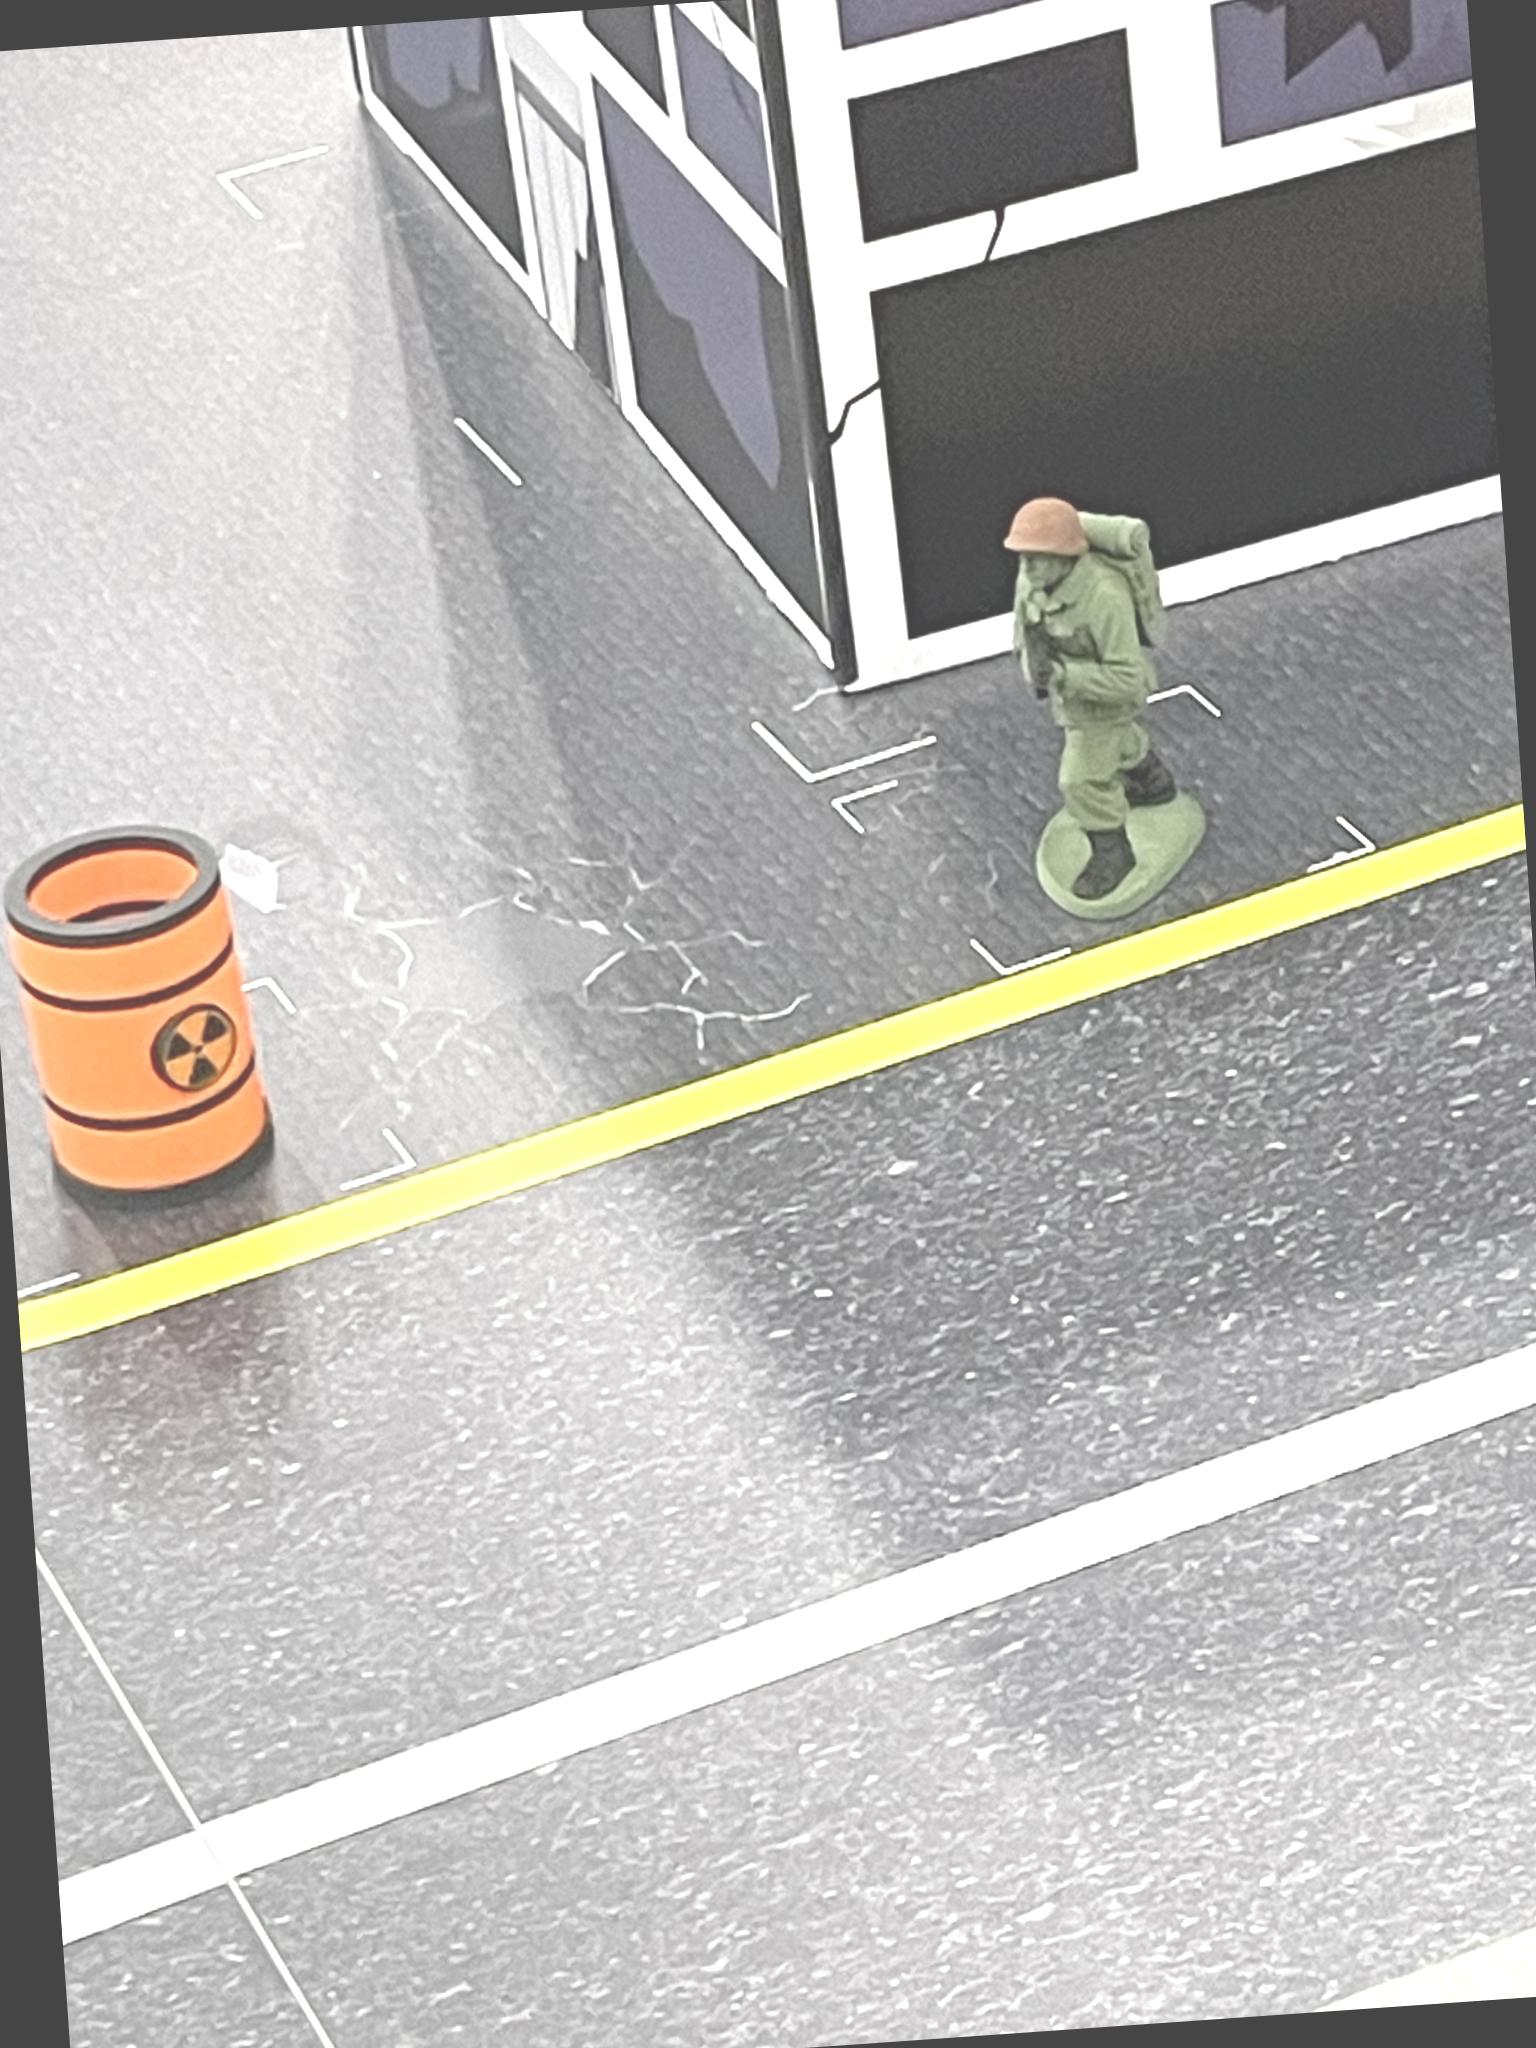Enemy: (999, 477, 1218, 929)
Hazmat: (0, 814, 295, 1229)
